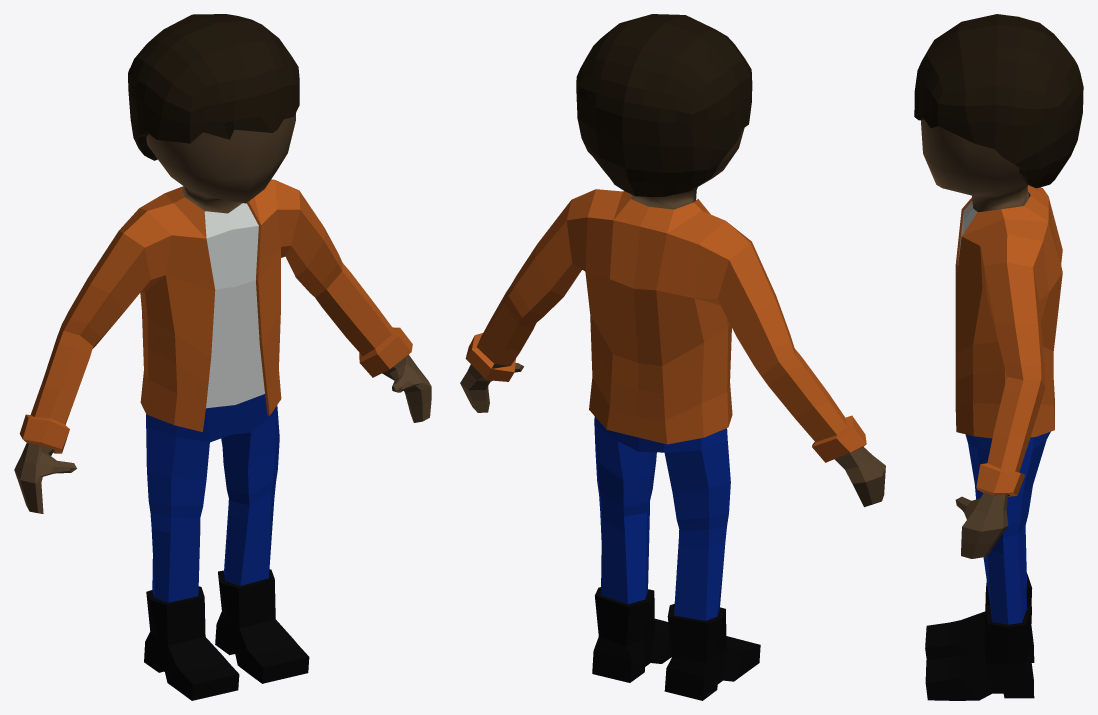
The model's file is Boy4.fbx.
3 renders of one model, left to right at view 1: azimuth 30°, elevation 25°; view 2: azimuth 150°, elevation 25°; view 3: azimuth 270°, elevation 25°, orthographic. The views are drawn at different scales.
Parts seen in each view (by area): view 1: Character.001_Character.002; view 2: Character.001_Character.002; view 3: Character.001_Character.002.
Part boxes in pixels (x1,y1,x2,y2): Character.001_Character.002: (14, 14, 431, 700); Character.001_Character.002: (460, 14, 885, 700); Character.001_Character.002: (914, 14, 1083, 700).
Bounding box in the file's own units: 272 × 407 × 96.29.
